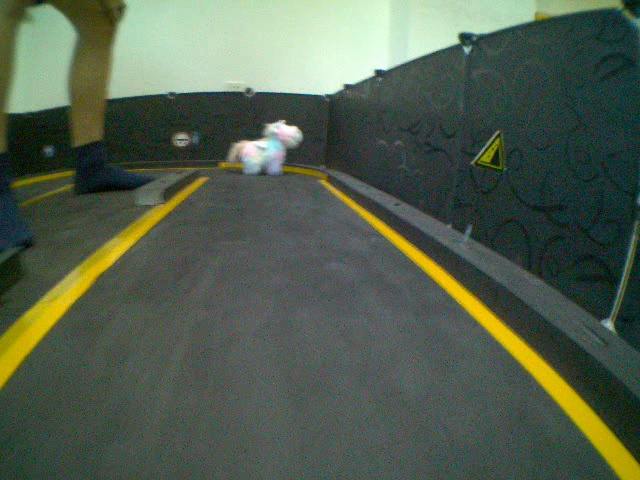unicorn: (229, 115, 302, 178)
